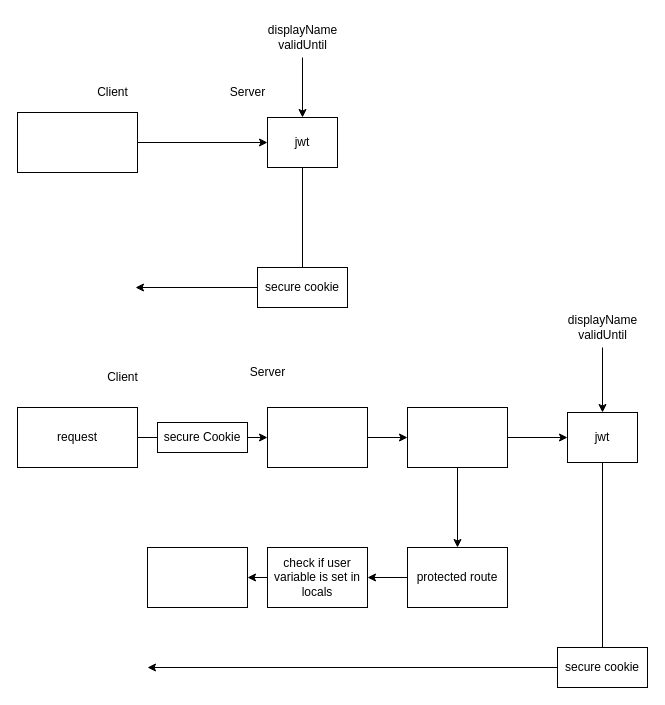
Image size: 665x705. Some labels were removed from this diagram. Each missing label, with the centre of its shape:
"do action" goes at [197,577].
"login action" goes at [77,142].
"set user in locals" goes at [457,437].
"verify cookie" goes at [317,437].
